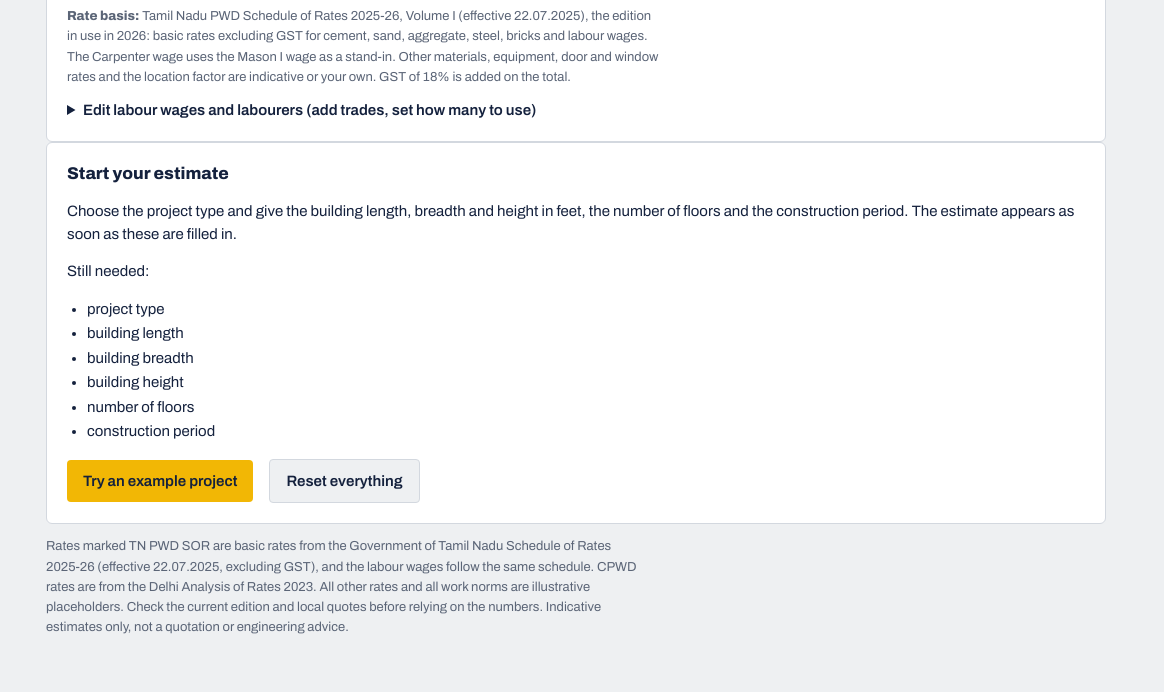
Test: App › switching to CPWD shows the station choice and changes the total
(page scrolled)
Click the button "Try an example project": (160, 481) [67, 460, 253, 502]
(page scrolled)
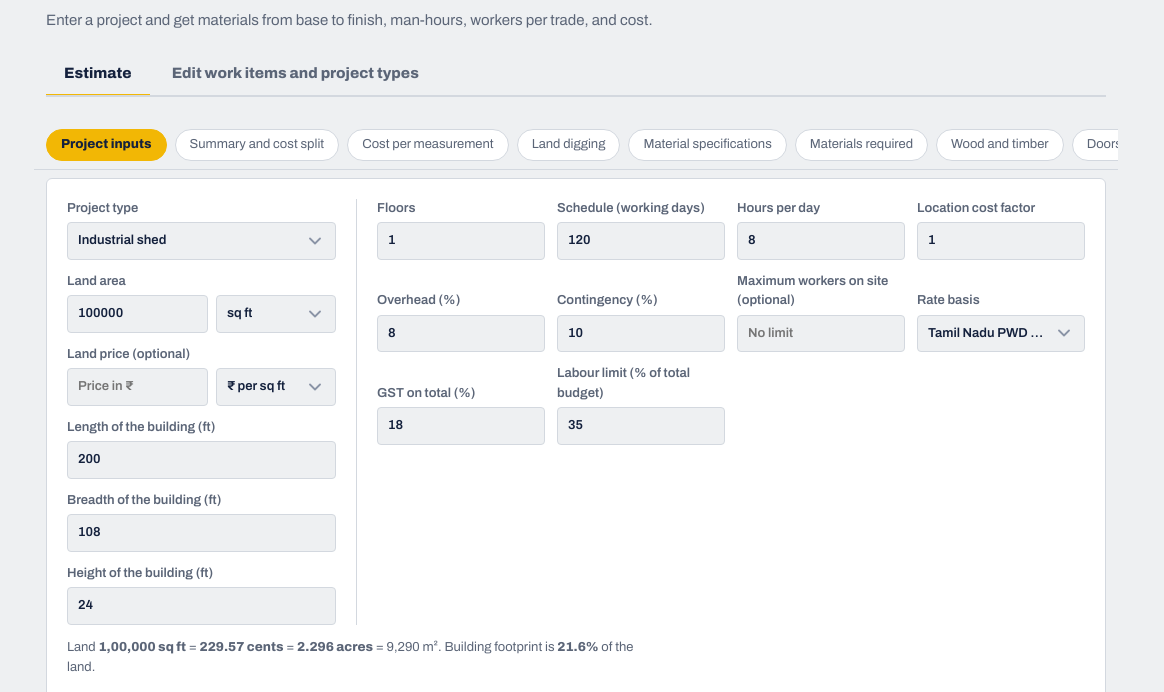
Expected: the field labelled "CPWD station" is not shown
Select "CPWD DAR/DSR 2023 with cost index" in the dropdown labelled "Rate basis": (1001, 333) [917, 314, 1085, 352]
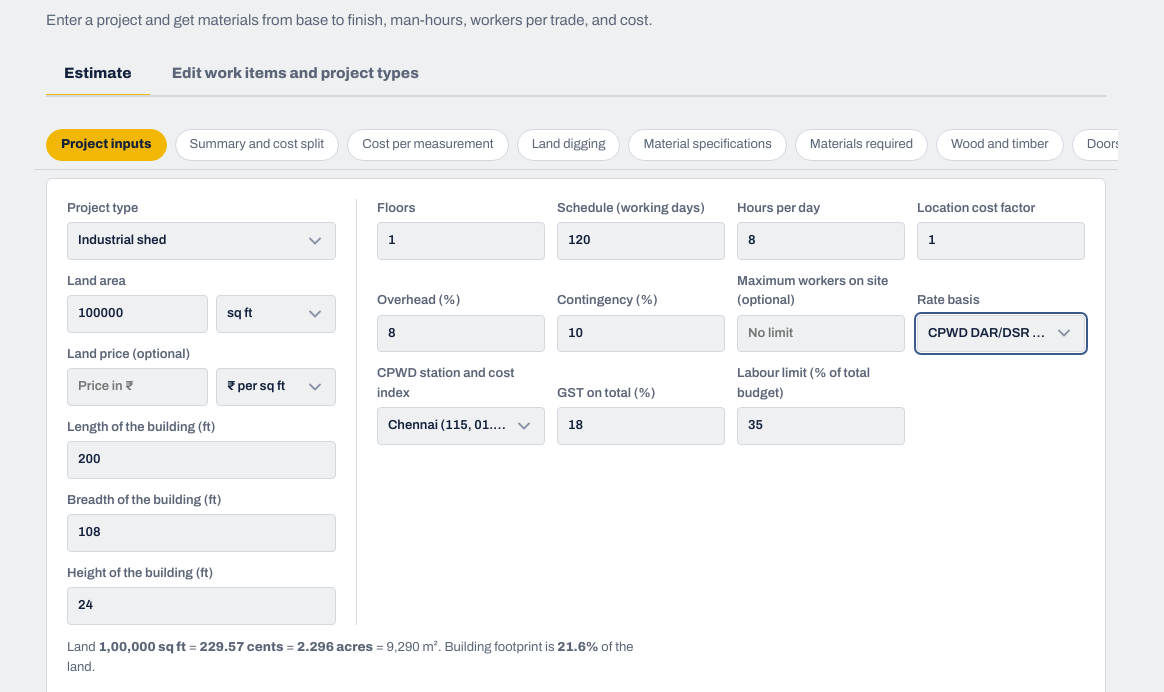
Expected: the dropdown labelled "CPWD station" is shown
Select "Other station (enter the index)" in the dropdown labelled "CPWD station": (461, 426) [377, 407, 545, 444]
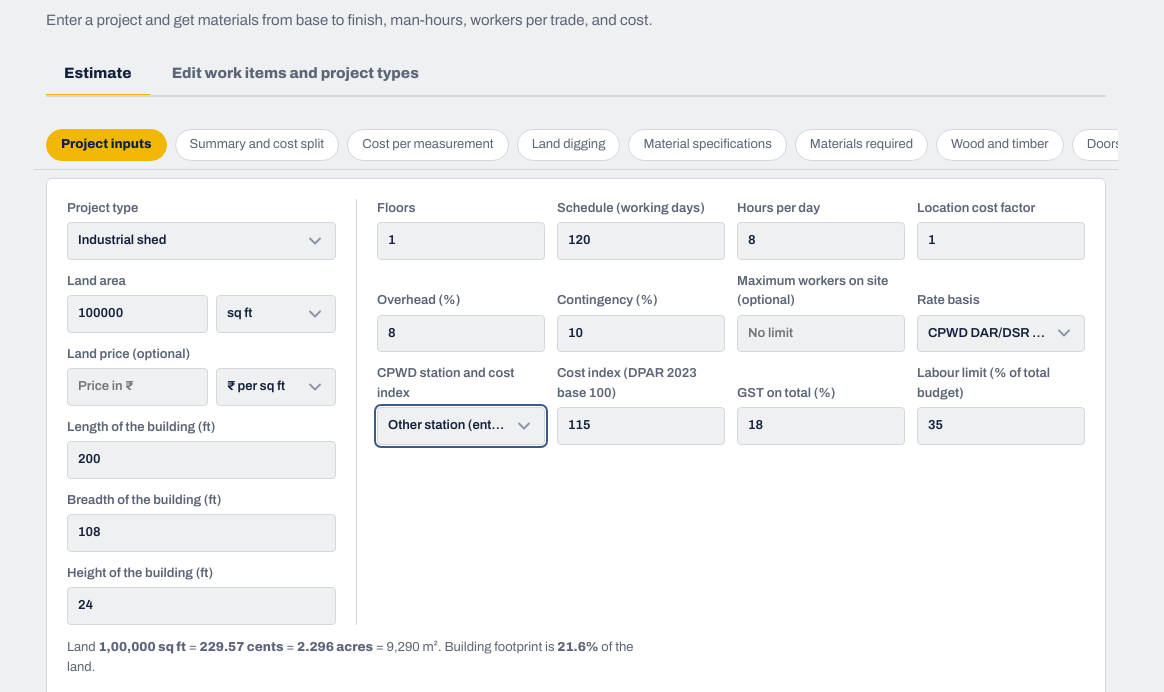
Expected: the number field labelled "Cost index" is shown, [557, 407, 725, 444]
